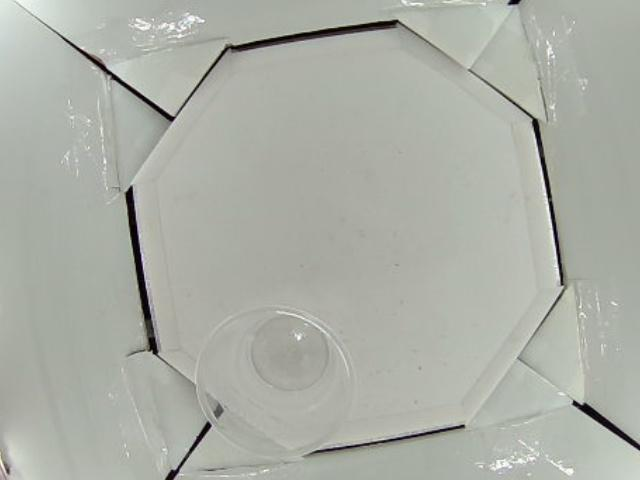Cup: (195, 303, 360, 458)
